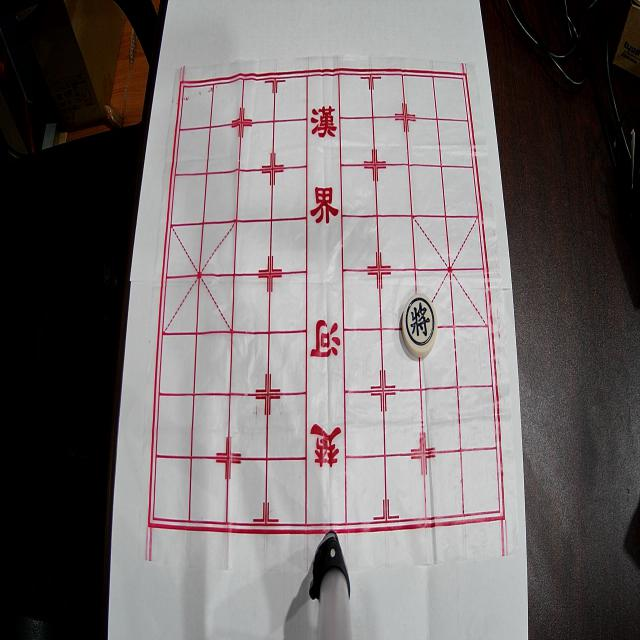black-general: (402, 294, 438, 357)
